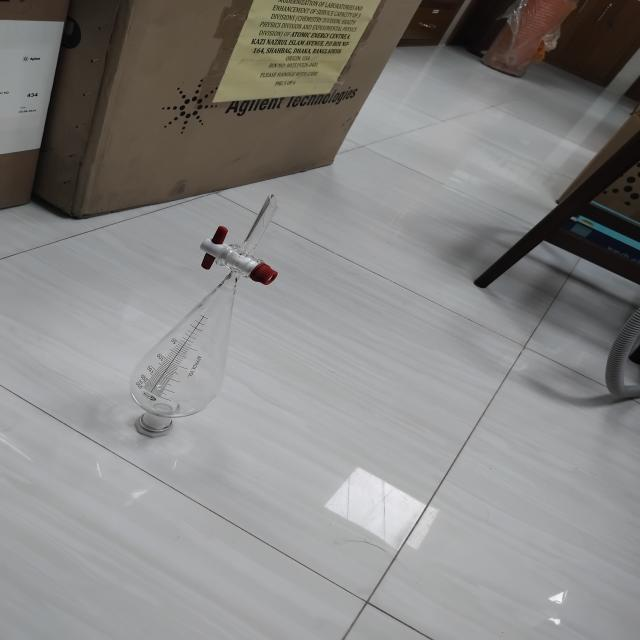Separating_Funnel: (104, 141, 333, 475)
